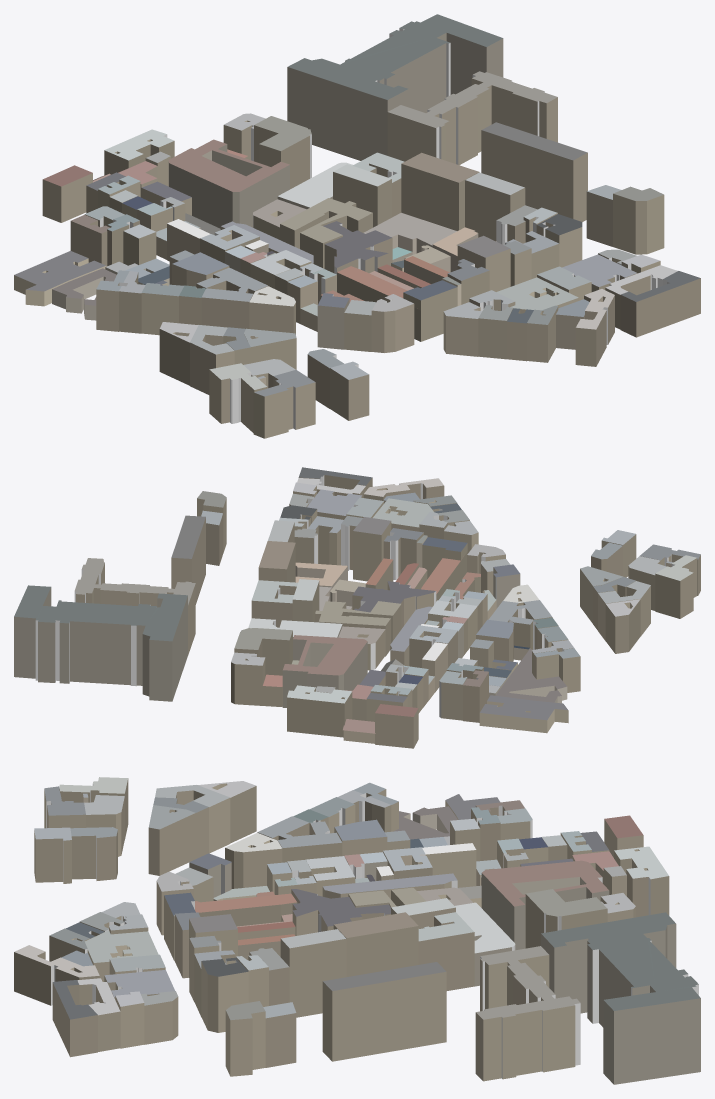
3 views of the same model, one above another, from view 1: azimuth 30°, elevation 25°; view 2: azimuth 150°, elevation 25°; view 3: azimuth 270°, elevation 25° (orthographic). The views are drawn at different scales.
Visible parts, largest first — view 1: tuile; view 2: tuile; view 3: tuile.
Part boxes in pixels (x1=…): tuile: x1=14, y1=14, x2=700, y2=438; tuile: x1=14, y1=467, x2=700, y2=748; tuile: x1=14, y1=777, x2=700, y2=1084.
Size of the model in its own units: 279 by 38.49 by 285.
